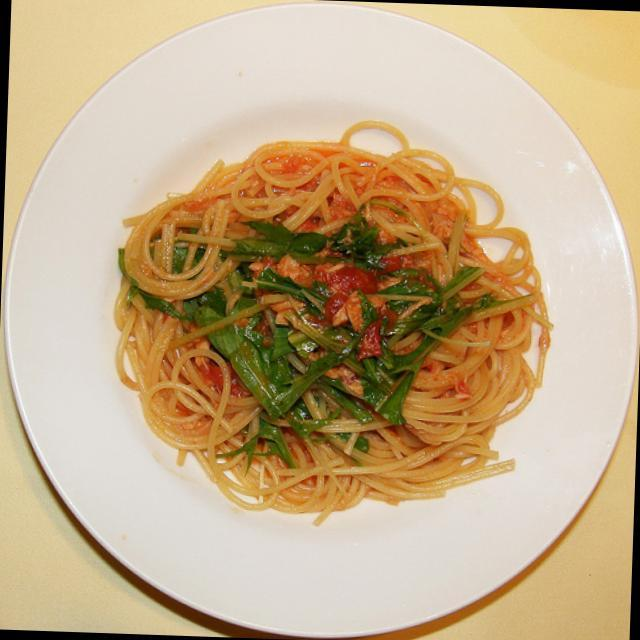Pasta: (113, 131, 562, 518)
